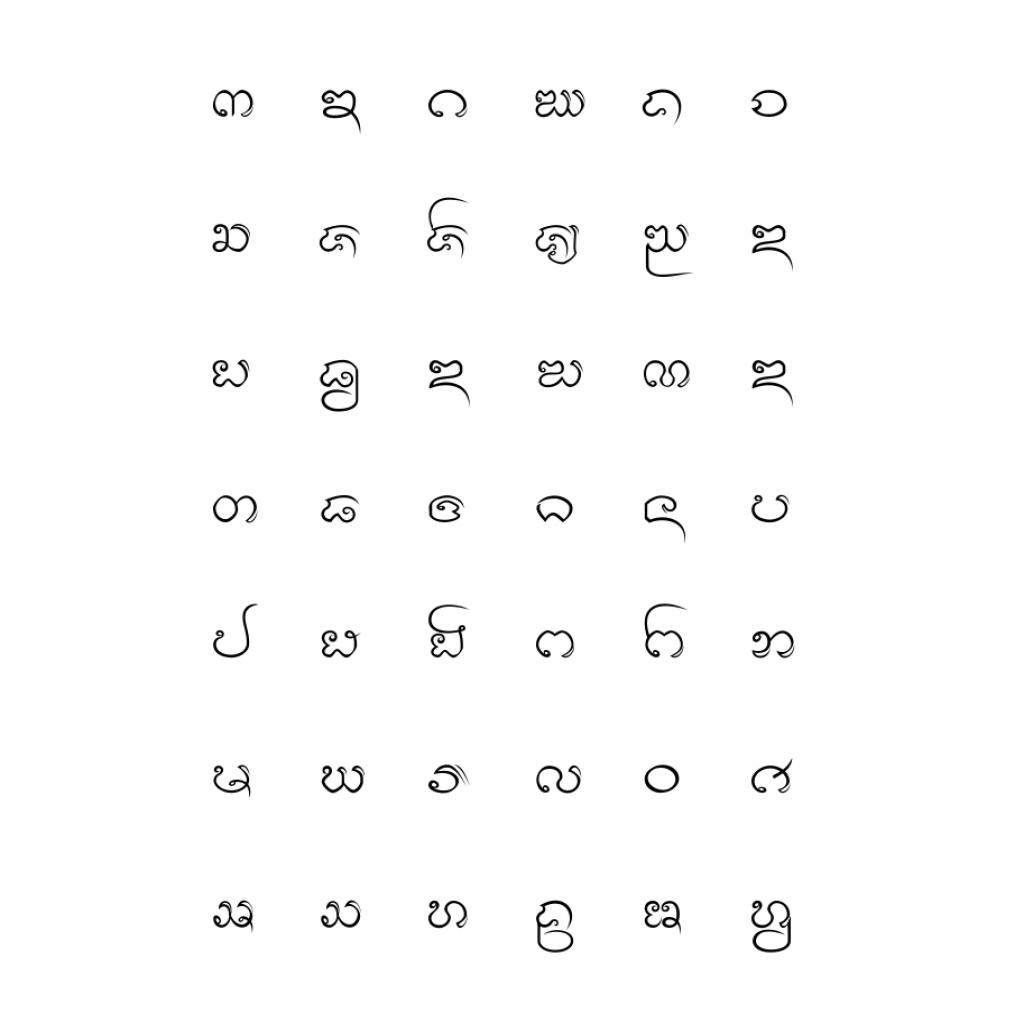LN001: (211, 88, 258, 122)
LN002: (319, 88, 366, 138)
LN003: (426, 87, 472, 122)
LN004: (534, 87, 590, 122)
LN005: (640, 87, 686, 130)
LN006: (749, 88, 792, 121)
LN007: (210, 222, 254, 256)
LN008: (317, 222, 365, 263)
LN009: (425, 195, 473, 263)
LN011: (642, 222, 698, 281)
LN013: (210, 356, 255, 392)
LN016: (536, 358, 588, 391)
LN017: (642, 359, 695, 392)
LN018: (750, 357, 798, 412)
LN019: (210, 493, 263, 527)
LN020: (318, 492, 364, 527)
LN021: (426, 493, 469, 526)
LN022: (534, 494, 578, 528)
LN023: (641, 493, 690, 547)
LN024: (749, 492, 794, 527)
LN025: (211, 602, 262, 663)
LN026: (320, 628, 366, 662)
LN027: (426, 603, 473, 662)
LN028: (534, 629, 579, 663)
LN029: (641, 601, 692, 662)
LN030: (749, 629, 800, 663)
LN031: (210, 763, 255, 802)
LN032: (319, 764, 370, 798)
LN034: (534, 763, 586, 798)
LN035: (642, 762, 684, 797)
LN036: (748, 756, 797, 798)
LN037: (211, 898, 259, 937)
LN038: (319, 898, 365, 933)
LN039: (426, 898, 473, 933)
LN040: (534, 897, 578, 957)
LN041: (641, 898, 686, 939)
LN042: (749, 898, 796, 957)
